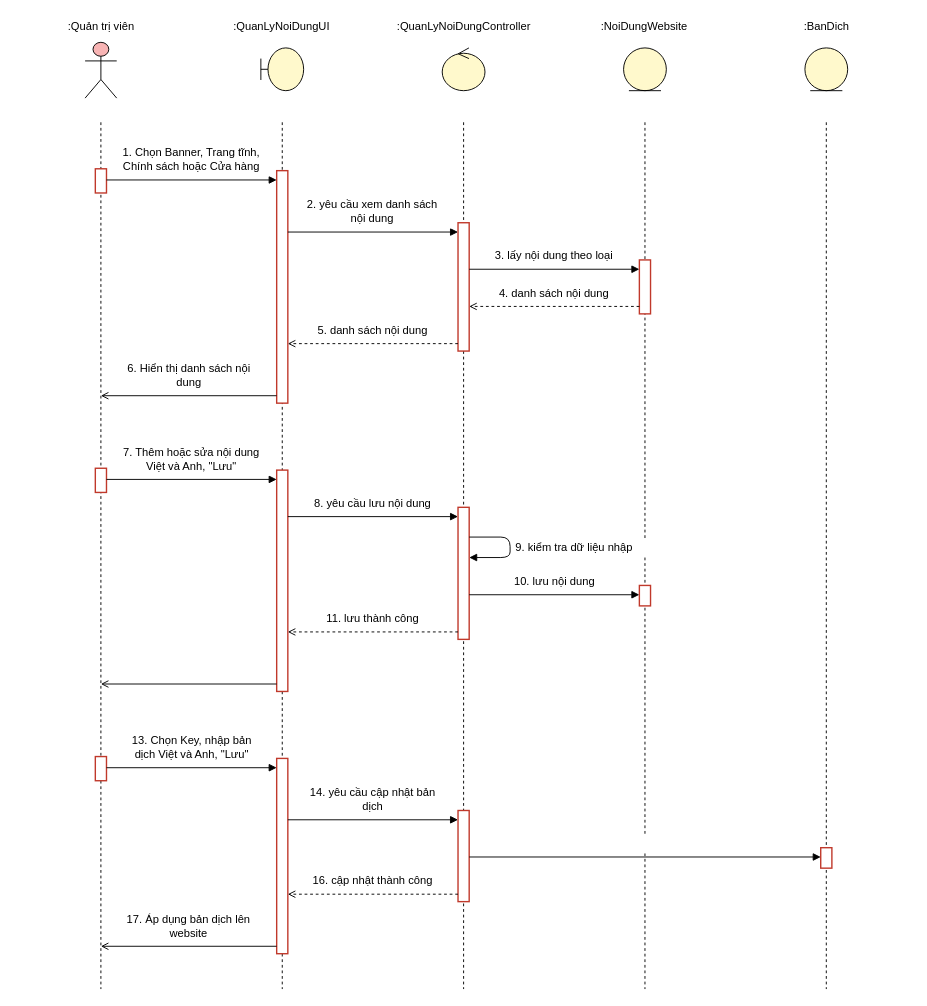
This 927x1006 diagram has some shape labels left out. Here are the shapes that lost their labels. From the top down, the centre of each, then its label:
(x=188, y=663): 12. Hiển thị nội dung trên website
(x=645, y=843): 15. kiểm tra Key và lưu bản dịch
